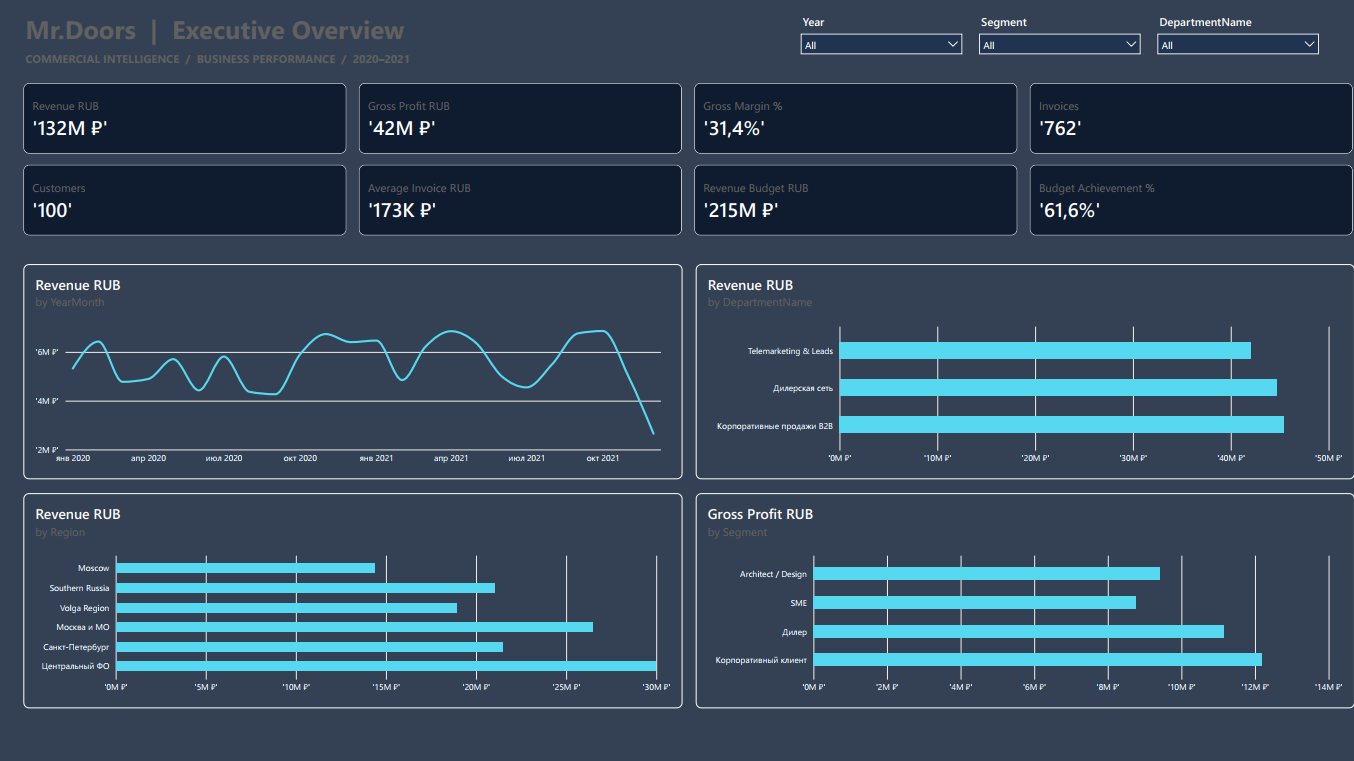

The page's visual inventory and layout, read from the dashboard file:
{"tool":"powerbi","page":{"name":"01 | Executive Overview","canvas":[1920,1080],"ordinal":0},"visuals":[{"type":"slicer","fields":{"Values":["DimDate.Year"]},"box":[1130,20,239,80],"z":10},{"type":"slicer","fields":{"Values":["DimCustomer.Segment"]},"box":[1383,20,239,80],"z":10},{"type":"slicer","fields":{"Values":["DimDepartment.DepartmentName"]},"box":[1636,20,239,80],"z":10},{"type":"cardVisual","fields":{"Data":["FactSales.Revenue RUB"]},"box":[32,118,458,100],"z":10},{"type":"cardVisual","fields":{"Data":["FactSales.Gross Profit RUB"]},"box":[508,118,458,100],"z":10},{"type":"cardVisual","fields":{"Data":["FactSales.Gross Margin %"]},"box":[984,118,458,100],"z":10},{"type":"cardVisual","fields":{"Data":["FactSales.Invoices"]},"box":[1460,118,458,100],"z":10},{"type":"cardVisual","fields":{"Data":["FactSales.Customers"]},"box":[32,234,458,100],"z":10},{"type":"cardVisual","fields":{"Data":["FactSales.Average Invoice RUB"]},"box":[508,234,458,100],"z":10},{"type":"cardVisual","fields":{"Data":["FactSales.Revenue Budget RUB"]},"box":[984,234,458,100],"z":10},{"type":"cardVisual","fields":{"Data":["FactSales.Budget Achievement %"]},"box":[1460,234,458,100],"z":10},{"type":"lineChart","fields":{"Category":["DimDate.YearMonth"],"Y":["FactSales.Revenue RUB"]},"box":[32,375,935,305],"z":10},{"type":"clusteredBarChart","fields":{"Category":["DimDepartment.DepartmentName"],"Y":["FactSales.Revenue RUB"]},"box":[986,375,935,305],"z":10},{"type":"clusteredBarChart","fields":{"Category":["DimCustomer.Region"],"Y":["FactSales.Revenue RUB"]},"box":[32,700,935,305],"z":10},{"type":"clusteredBarChart","fields":{"Category":["DimCustomer.Segment"],"Y":["FactSales.Gross Profit RUB"]},"box":[986,700,935,305],"z":10},{"type":"textbox","box":[35,16,1050,55],"z":15000},{"type":"textbox","box":[35,72,1050,32],"z":15000}]}

Visuals, with their boxes in screenshot pixels (x1, y1, x2, y2), scaled from the page's 1920x1080 canvas onto the 1354x761 screenshot:
slicer - DimDate.Year: bbox(797, 14, 965, 70)
slicer - DimCustomer.Segment: bbox(975, 14, 1144, 70)
slicer - DimDepartment.DepartmentName: bbox(1154, 14, 1322, 70)
cardVisual - FactSales.Revenue RUB: bbox(23, 83, 346, 154)
cardVisual - FactSales.Gross Profit RUB: bbox(358, 83, 681, 154)
cardVisual - FactSales.Gross Margin %: bbox(694, 83, 1017, 154)
cardVisual - FactSales.Invoices: bbox(1030, 83, 1353, 154)
cardVisual - FactSales.Customers: bbox(23, 165, 346, 235)
cardVisual - FactSales.Average Invoice RUB: bbox(358, 165, 681, 235)
cardVisual - FactSales.Revenue Budget RUB: bbox(694, 165, 1017, 235)
cardVisual - FactSales.Budget Achievement %: bbox(1030, 165, 1353, 235)
lineChart - DimDate.YearMonth x FactSales.Revenue RUB: bbox(23, 264, 682, 479)
clusteredBarChart - DimDepartment.DepartmentName x FactSales.Revenue RUB: bbox(695, 264, 1353, 479)
clusteredBarChart - DimCustomer.Region x FactSales.Revenue RUB: bbox(23, 493, 682, 708)
clusteredBarChart - DimCustomer.Segment x FactSales.Gross Profit RUB: bbox(695, 493, 1353, 708)
textbox: bbox(25, 11, 765, 50)
textbox: bbox(25, 51, 765, 73)
